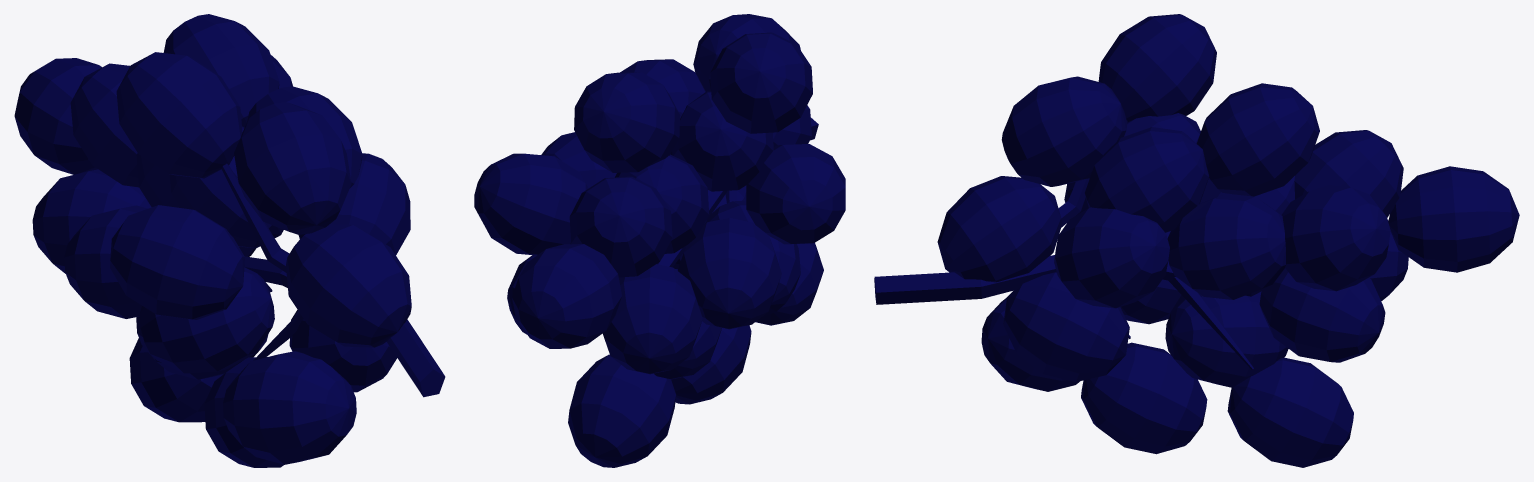
File: grape1_2.dae
The picture shows the model from 3 angles, left to right: view 1: azimuth 30°, elevation 25°; view 2: azimuth 150°, elevation 25°; view 3: azimuth 270°, elevation 25°; orthographic projection. The views are drawn at different scales.
Visible parts, largest first — view 1: grape1; view 2: grape1; view 3: grape1.
Part boxes in pixels (left/top/right/bottom): grape1: left=14, top=14, right=445, bottom=467; grape1: left=474, top=14, right=845, bottom=467; grape1: left=874, top=14, right=1519, bottom=467.
Bounding box in the file's own units: 0.1 × 0.2142 × 0.1483.
